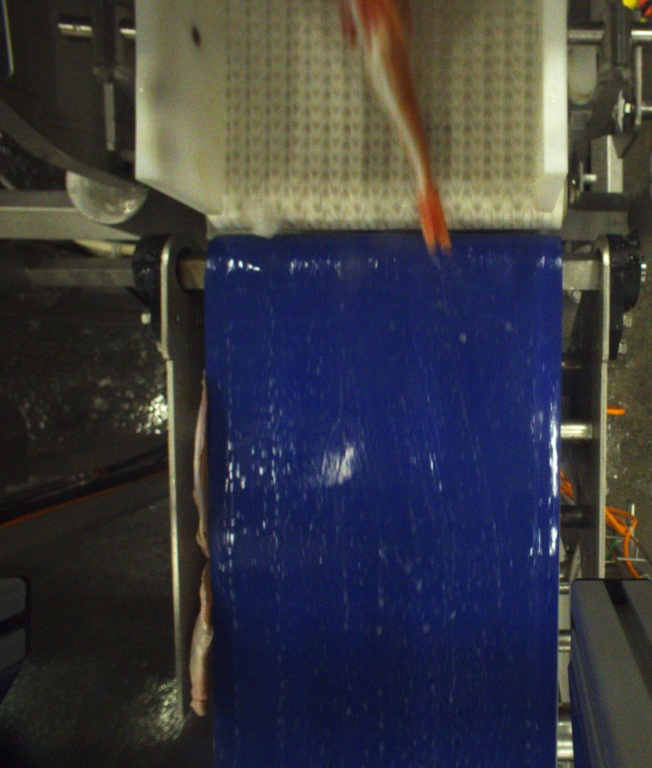GUU: (340, 0, 450, 250)
